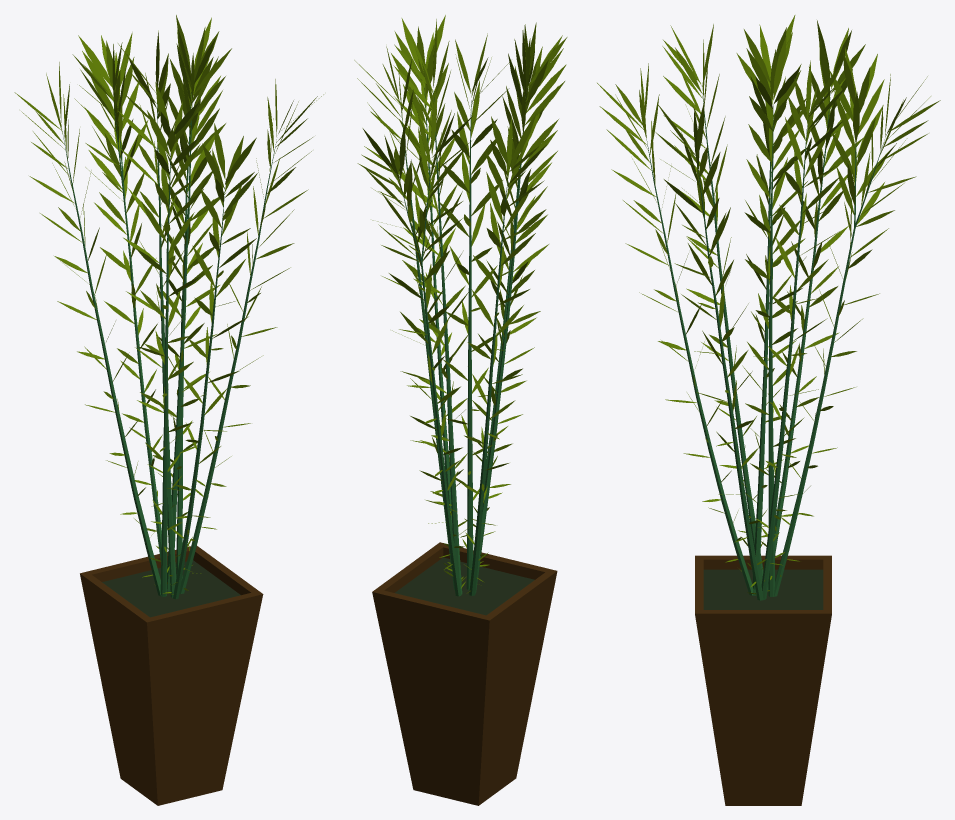
The model's file is plantPot.fbx.
3 views of the same model, side by side, from view 1: azimuth 30°, elevation 25°; view 2: azimuth 150°, elevation 25°; view 3: azimuth 270°, elevation 25° (orthographic). The views are drawn at different scales.
Visible parts, largest first — view 1: plantPot; view 2: plantPot; view 3: plantPot.
Part boxes in pixels (x1=…): plantPot: x1=14, y1=15, x2=323, y2=805; plantPot: x1=354, y1=15, x2=567, y2=805; plantPot: x1=597, y1=15, x2=940, y2=805.
Size of the model in its own units: 39.52 by 126 by 51.53.
